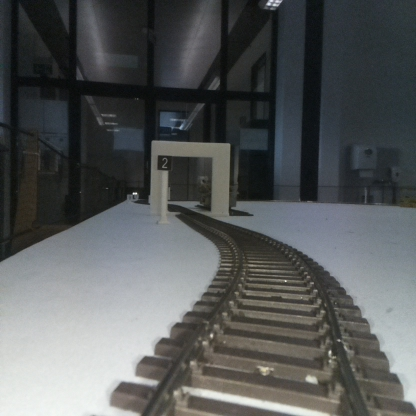black-info-2: (157, 155, 171, 222)
